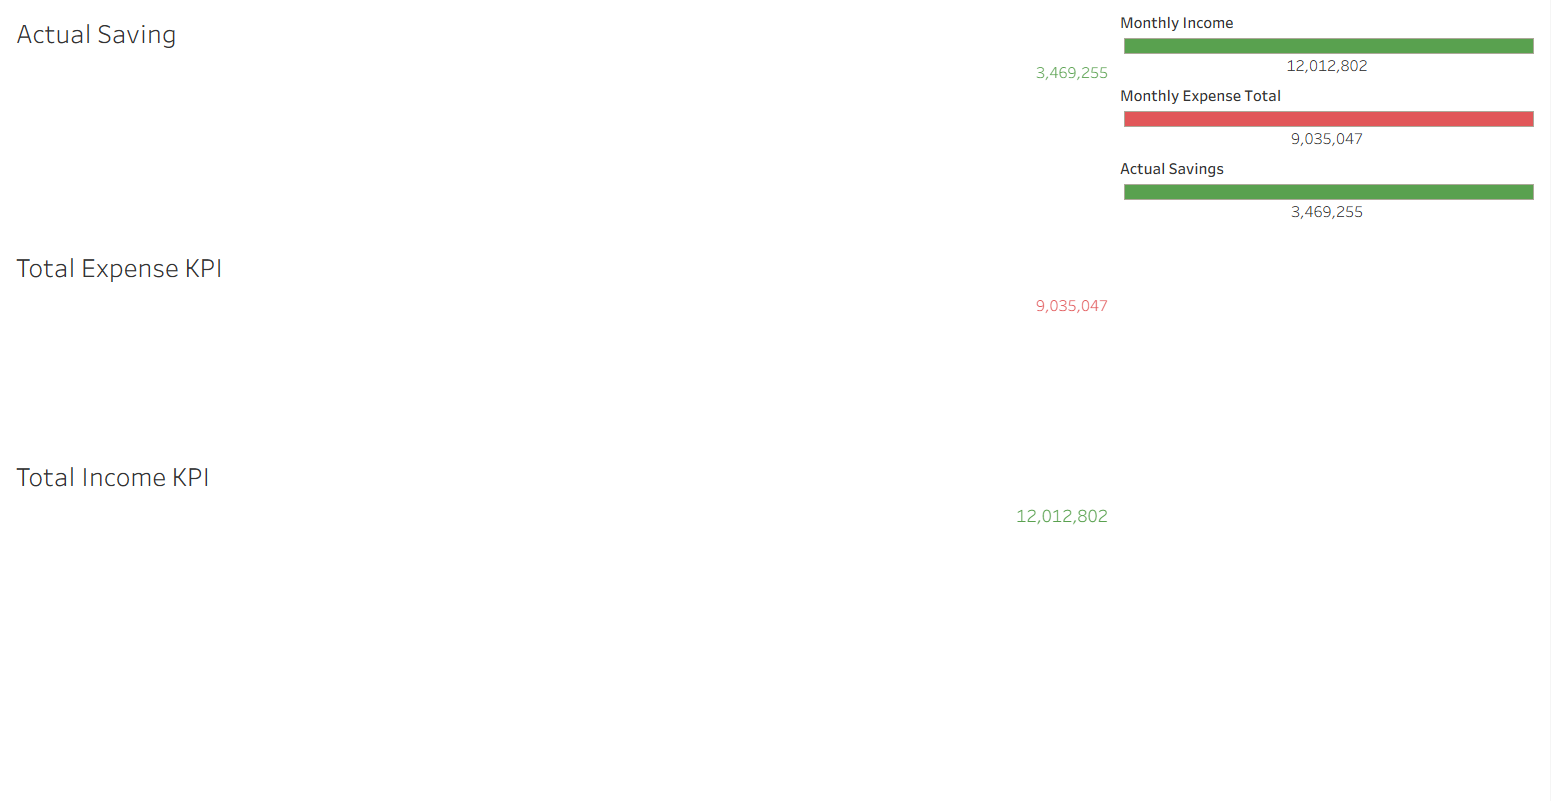

The page's visual inventory and layout, read from the dashboard file:
{"tool":"tableau","page":{"name":"KPI","canvas":[1000,1000],"units":"permille","ordinal":1},"visuals":[{"type":"worksheet","title":"Actual Saving","mark":"Automatic","box":[7,10,615.6,291.8]},{"type":"legend","title":"Total Income KPI","param":"[federated.19qrhew0q86ffl1f7tn8u0e1mkeu].[sum:monthly_income:qk]","box":[622.6,10,370.4,91]},{"type":"legend","title":"Total Expense KPI","param":"[federated.19qrhew0q86ffl1f7tn8u0e1mkeu].[sum:monthly_expense_total:qk]","box":[622.6,101,370.4,91]},{"type":"legend","title":"Actual Saving","param":"[federated.19qrhew0q86ffl1f7tn8u0e1mkeu].[sum:actual_savings:qk]","box":[622.6,192,370.4,91]},{"type":"worksheet","title":"Total Expense KPI","mark":"Automatic","box":[7,301.7,615.6,260.6]},{"type":"worksheet","title":"Total Income KPI","mark":"Automatic","box":[7,562.3,615.6,427.7]}]}

Visuals, with their boxes on the dashboard's canvas, which has no fixed pixel size, in thousandths of its width and height (x1, y1, x2, y2). These are canvas units, not pixel positions in the 1551x801 screenshot, which may show the page scaled, cropped or inside an application window:
"Actual Saving" worksheet: [7,10,623,302]
"Total Income KPI" legend: [623,10,993,101]
"Total Expense KPI" legend: [623,101,993,192]
"Actual Saving" legend: [623,192,993,283]
"Total Expense KPI" worksheet: [7,302,623,562]
"Total Income KPI" worksheet: [7,562,623,990]
